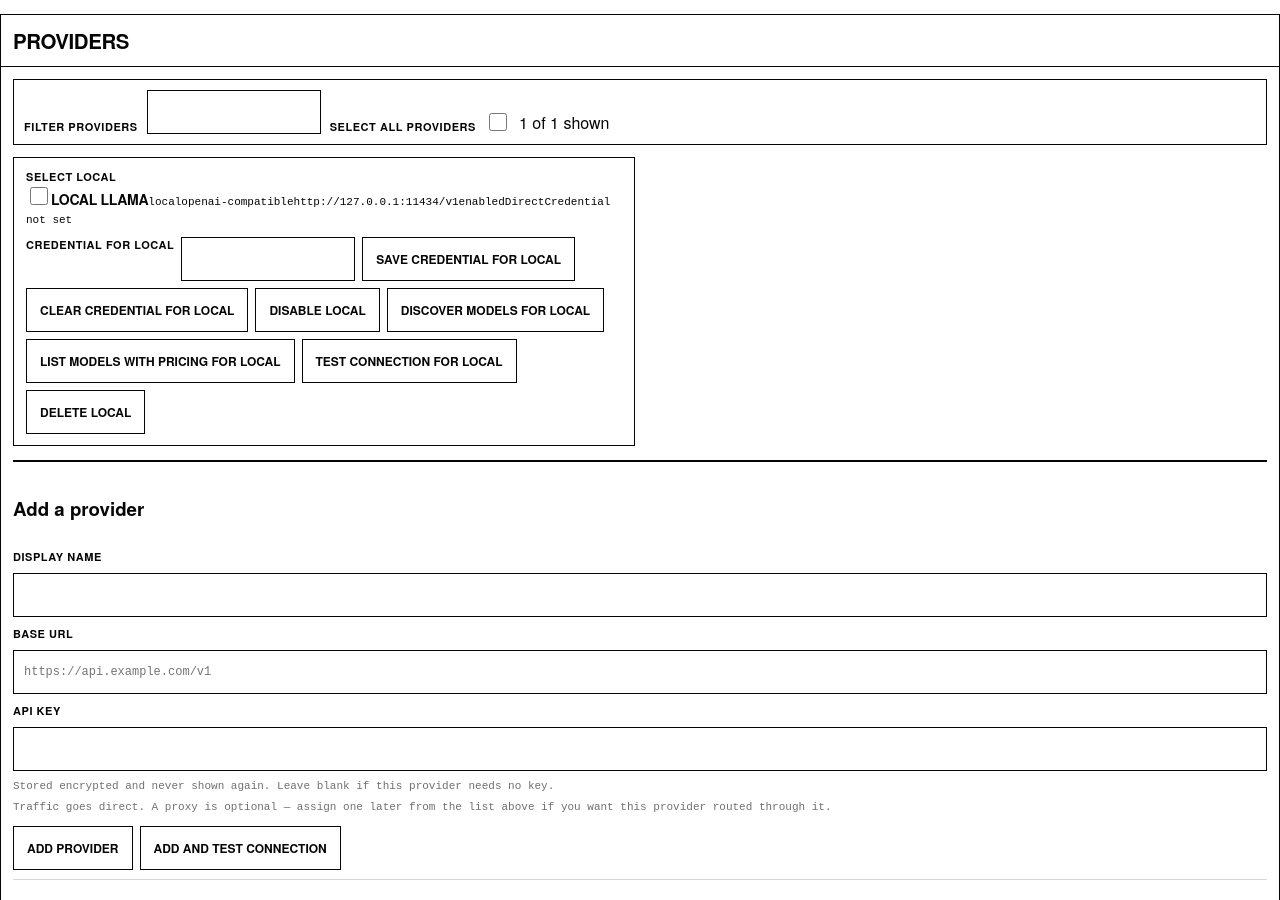
Test: ProvidersPanel › renders a hostile model name as text, never as markup
Expected: the text "Local Llama" is shown, [51,189,148,209]
Click the button "Discover models for local".
click(495, 310)  # box [387,288,604,332]
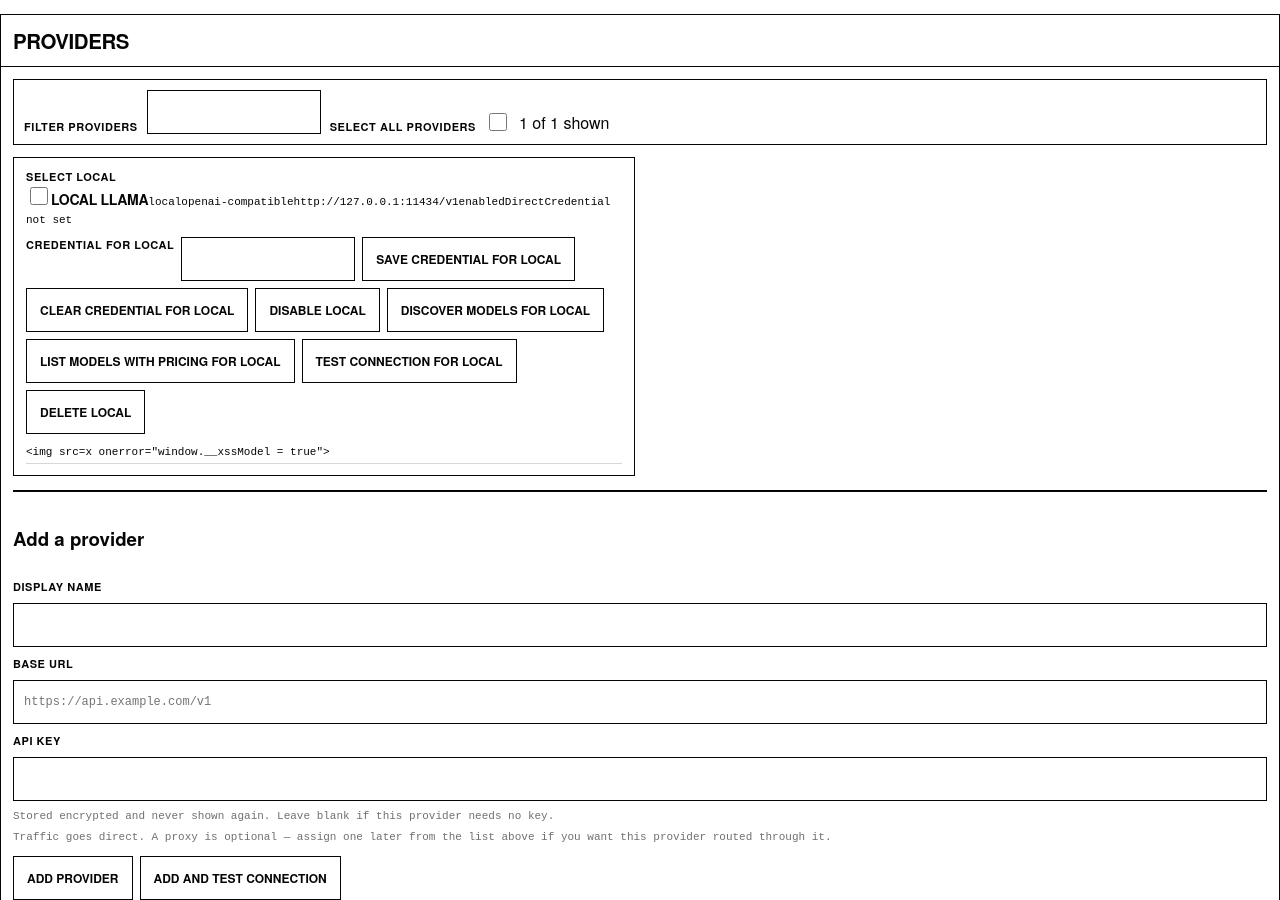
Result: the list item "<img src=x onerror=\"window.__xssModel = true\">" is shown at [26,441,622,464]
